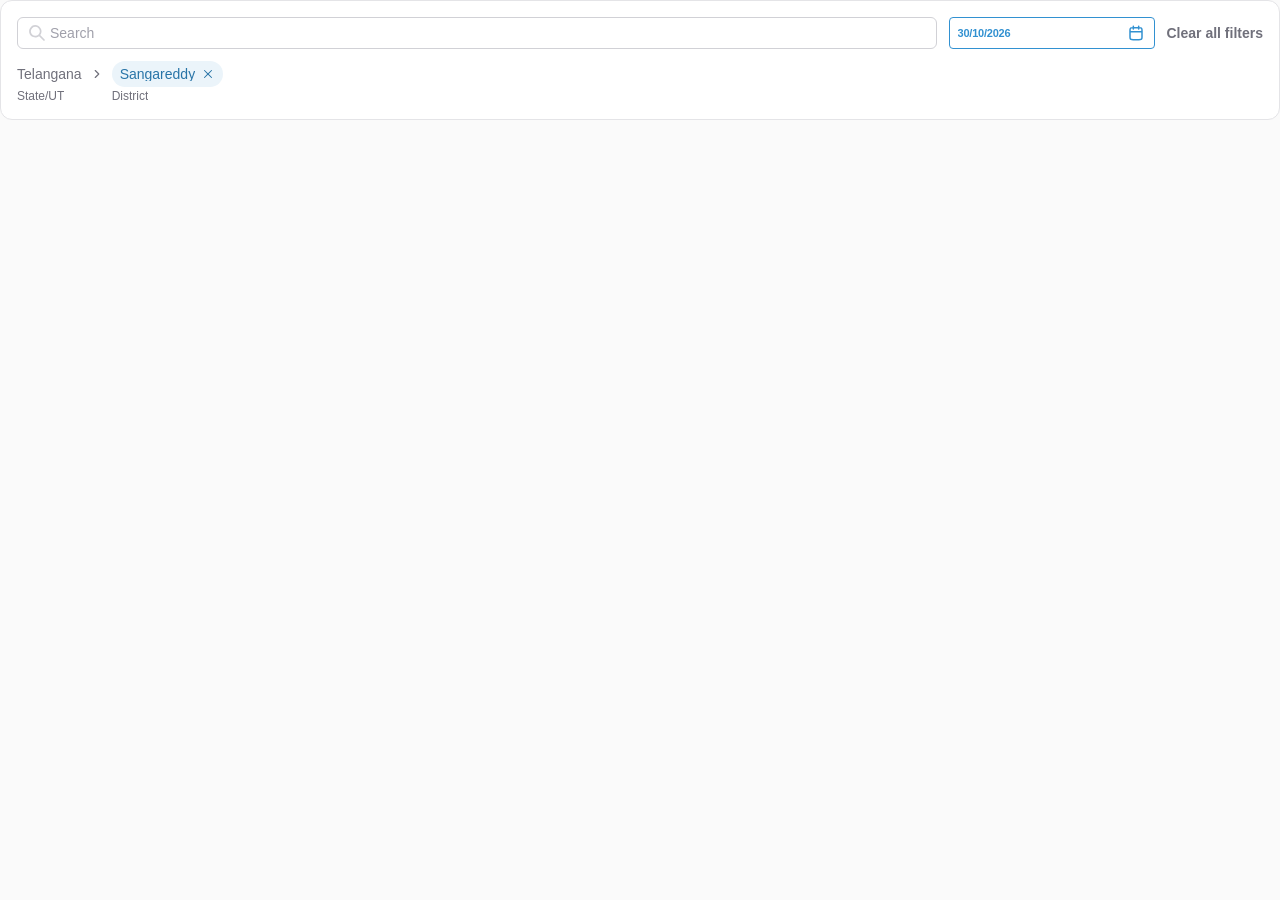
Test: DashboardFilters › shows selected district in top breadcrumb path inside search panel
Focus the field at [477, 33], box [17,17,936,49]
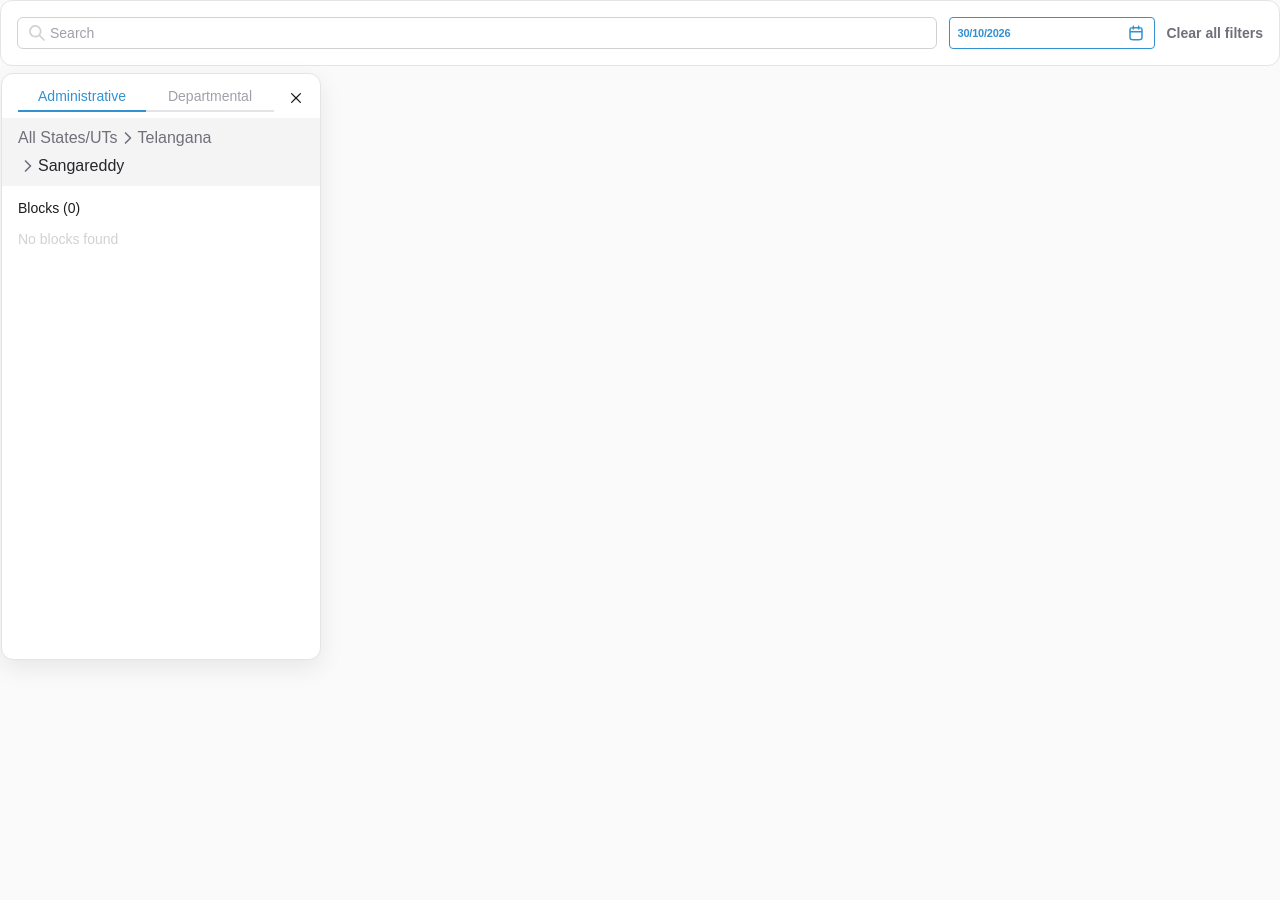
Expected: the button "Sangareddy" is shown, [38,154,124,178]
Expected: the button "All States/UTs" is shown, [18,126,118,150]
Expected: the button "Telangana" is shown, [138,126,211,150]
